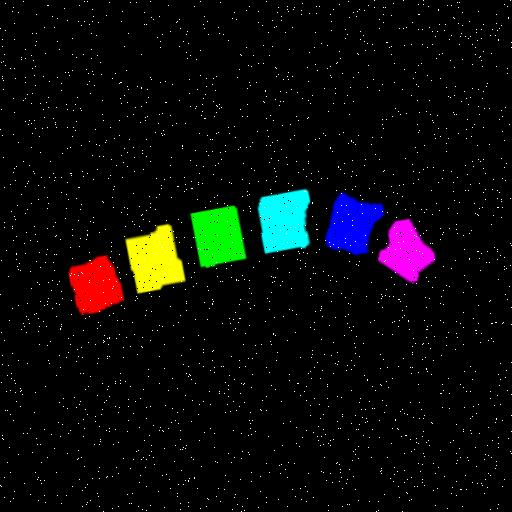L1: (71, 253, 126, 313)
L2: (127, 221, 188, 291)
L3: (192, 202, 248, 264)
L4: (259, 186, 312, 250)
L5: (327, 188, 386, 250)
S1: (380, 214, 438, 277)
